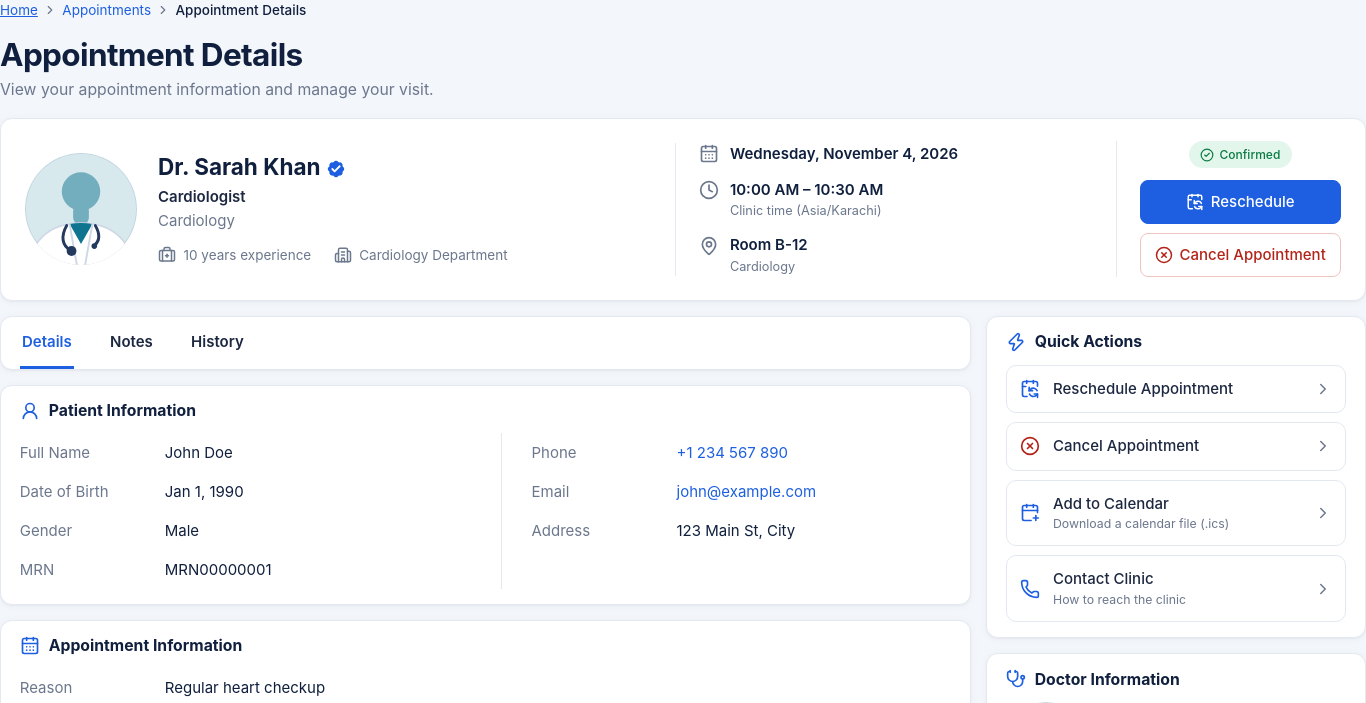
tabs › History lists the recorded status changes
Click the tab "History".
click(217, 343)  # box [189,317,246,369]
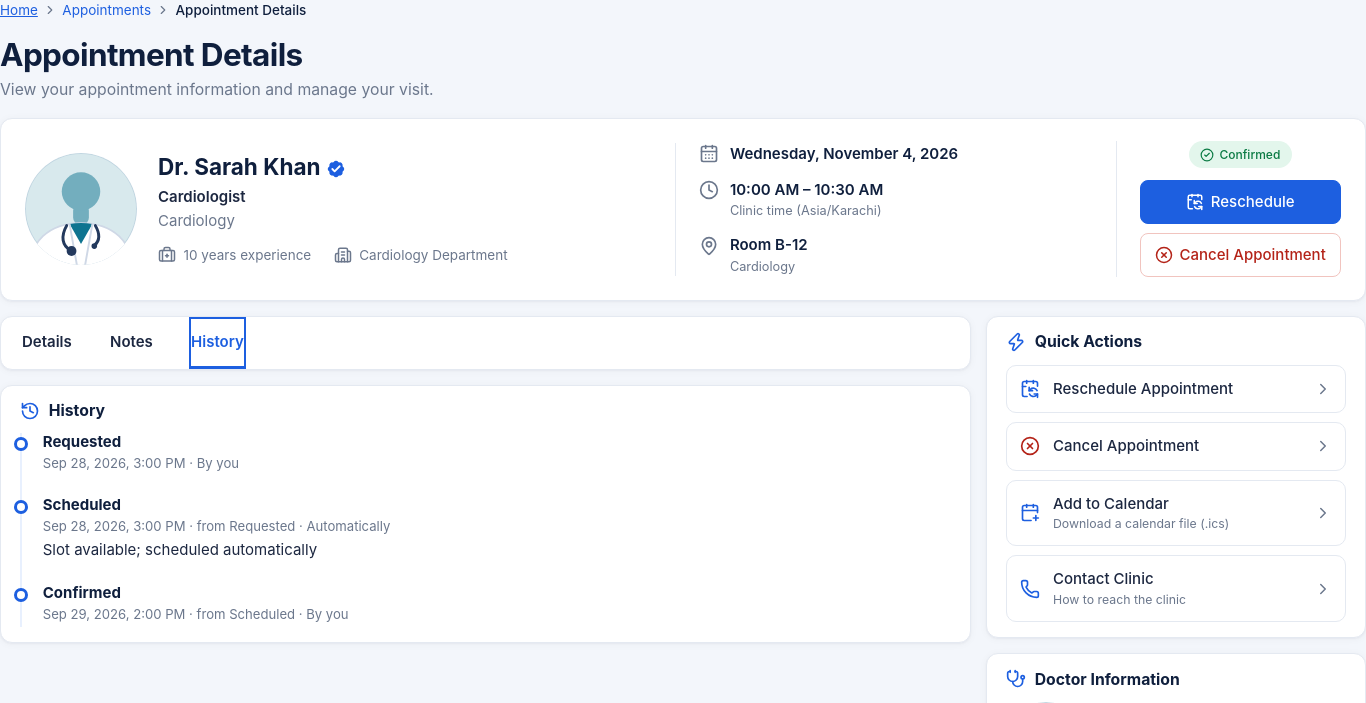
expect the list item "Requested Sep 28, 2026, 3:00 PM · By you" is shown: met, box [43,432,239,471]
expect the list item that starts with "Scheduled" shows "Automatically": met, box [295,518,390,534]
expect the list item that starts with "Scheduled" shows "Slot available; scheduled automatically": met, box [43,540,317,559]
